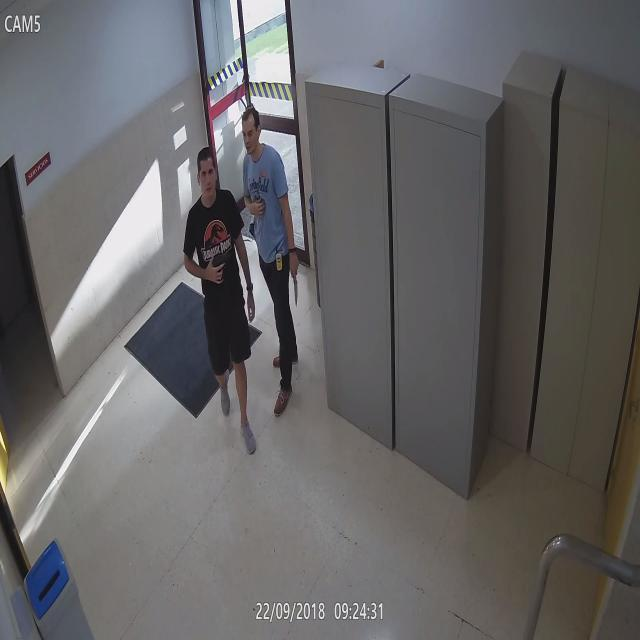gun: (206, 248, 236, 284), (245, 216, 258, 248)
